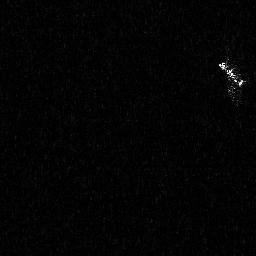ship: (216, 59, 247, 97)
